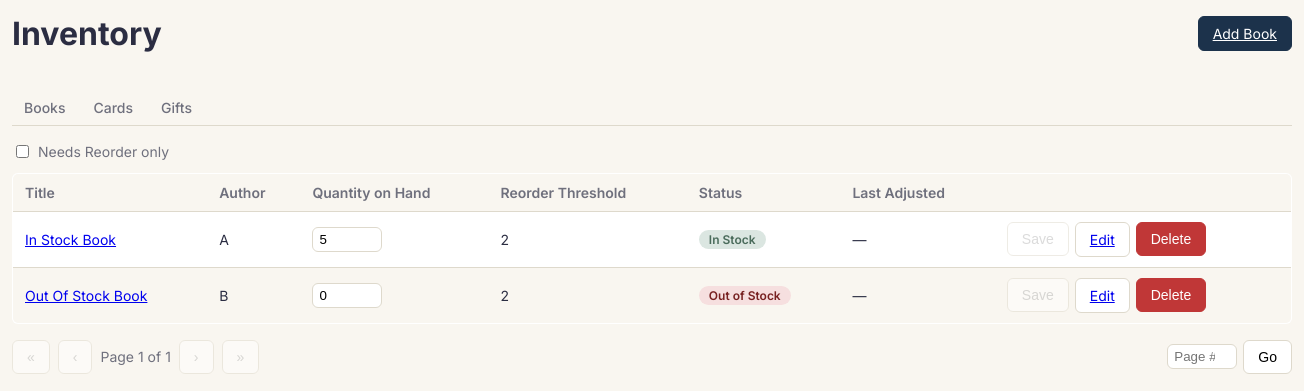
Test: InventoryPage › filters to Needs Reorder only when the toggle is checked
Expected: the link "In Stock Book" is shown, [25,231,116,248]
Step 1. Click the checkbox labelled "Needs Reorder only" → coordinates (22, 151), box [16,145,29,158]
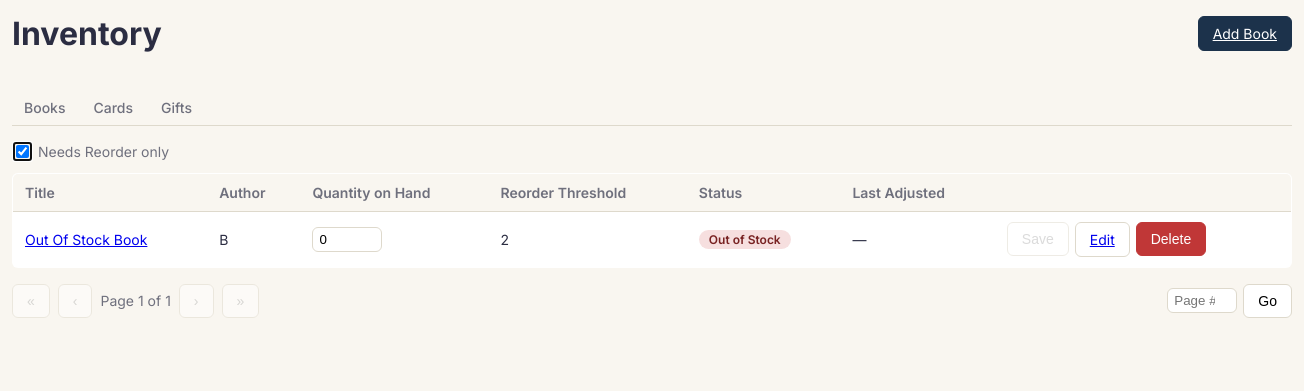
Expected: the link "Out Of Stock Book" is shown, [25,231,147,248]
Now the link "In Stock Book" is gone
